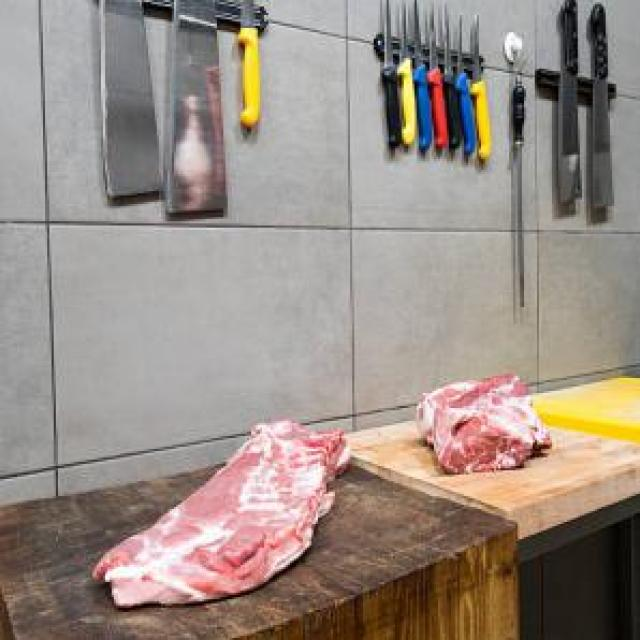knife: (588, 4, 618, 210), (560, 0, 586, 223), (378, 0, 410, 150), (423, 0, 455, 148), (472, 11, 502, 160), (412, 0, 440, 150), (398, 0, 426, 148), (238, 0, 268, 137), (442, 0, 468, 150), (455, 13, 482, 157)
